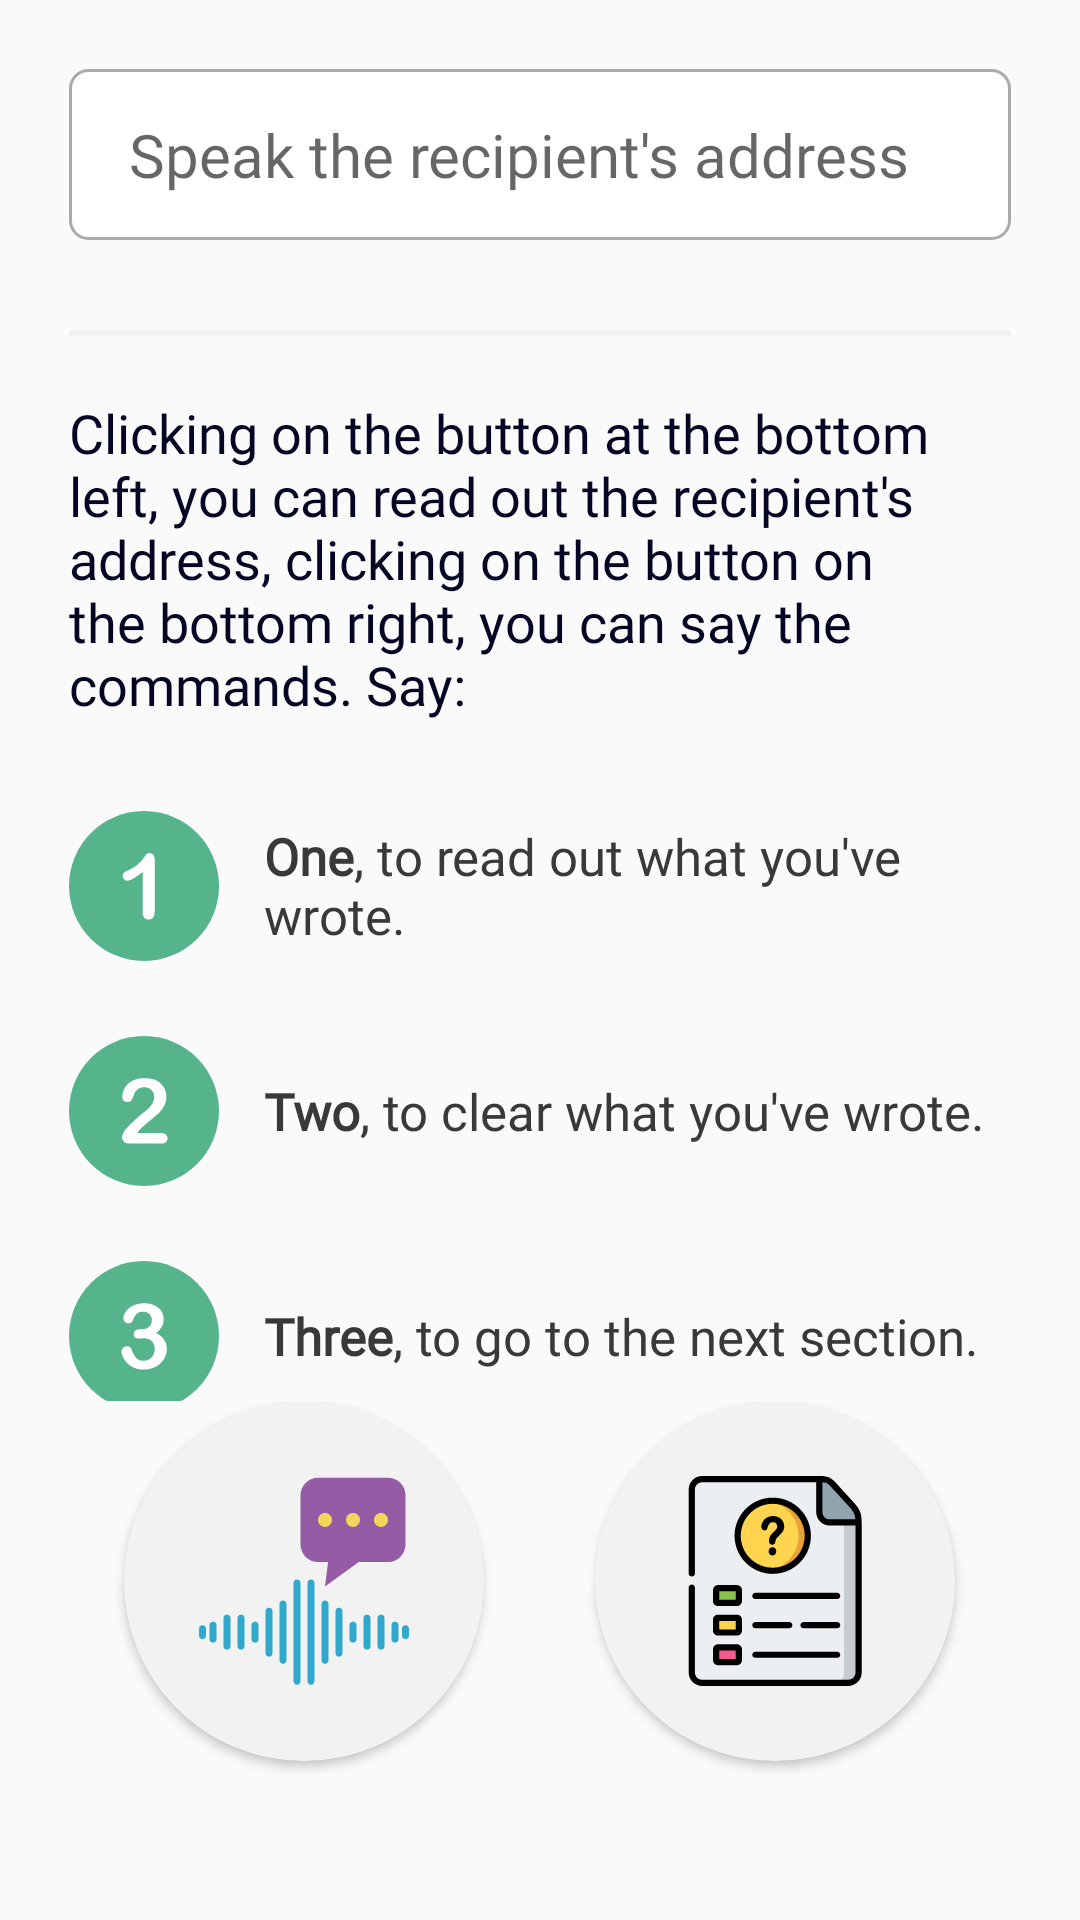

Icon bounding boxes for this 1080 x 1920 phone screenshot, format (x1, y1, x2, y2):
instruction: (601, 1476, 955, 1761)
record: (124, 1477, 478, 1761)
